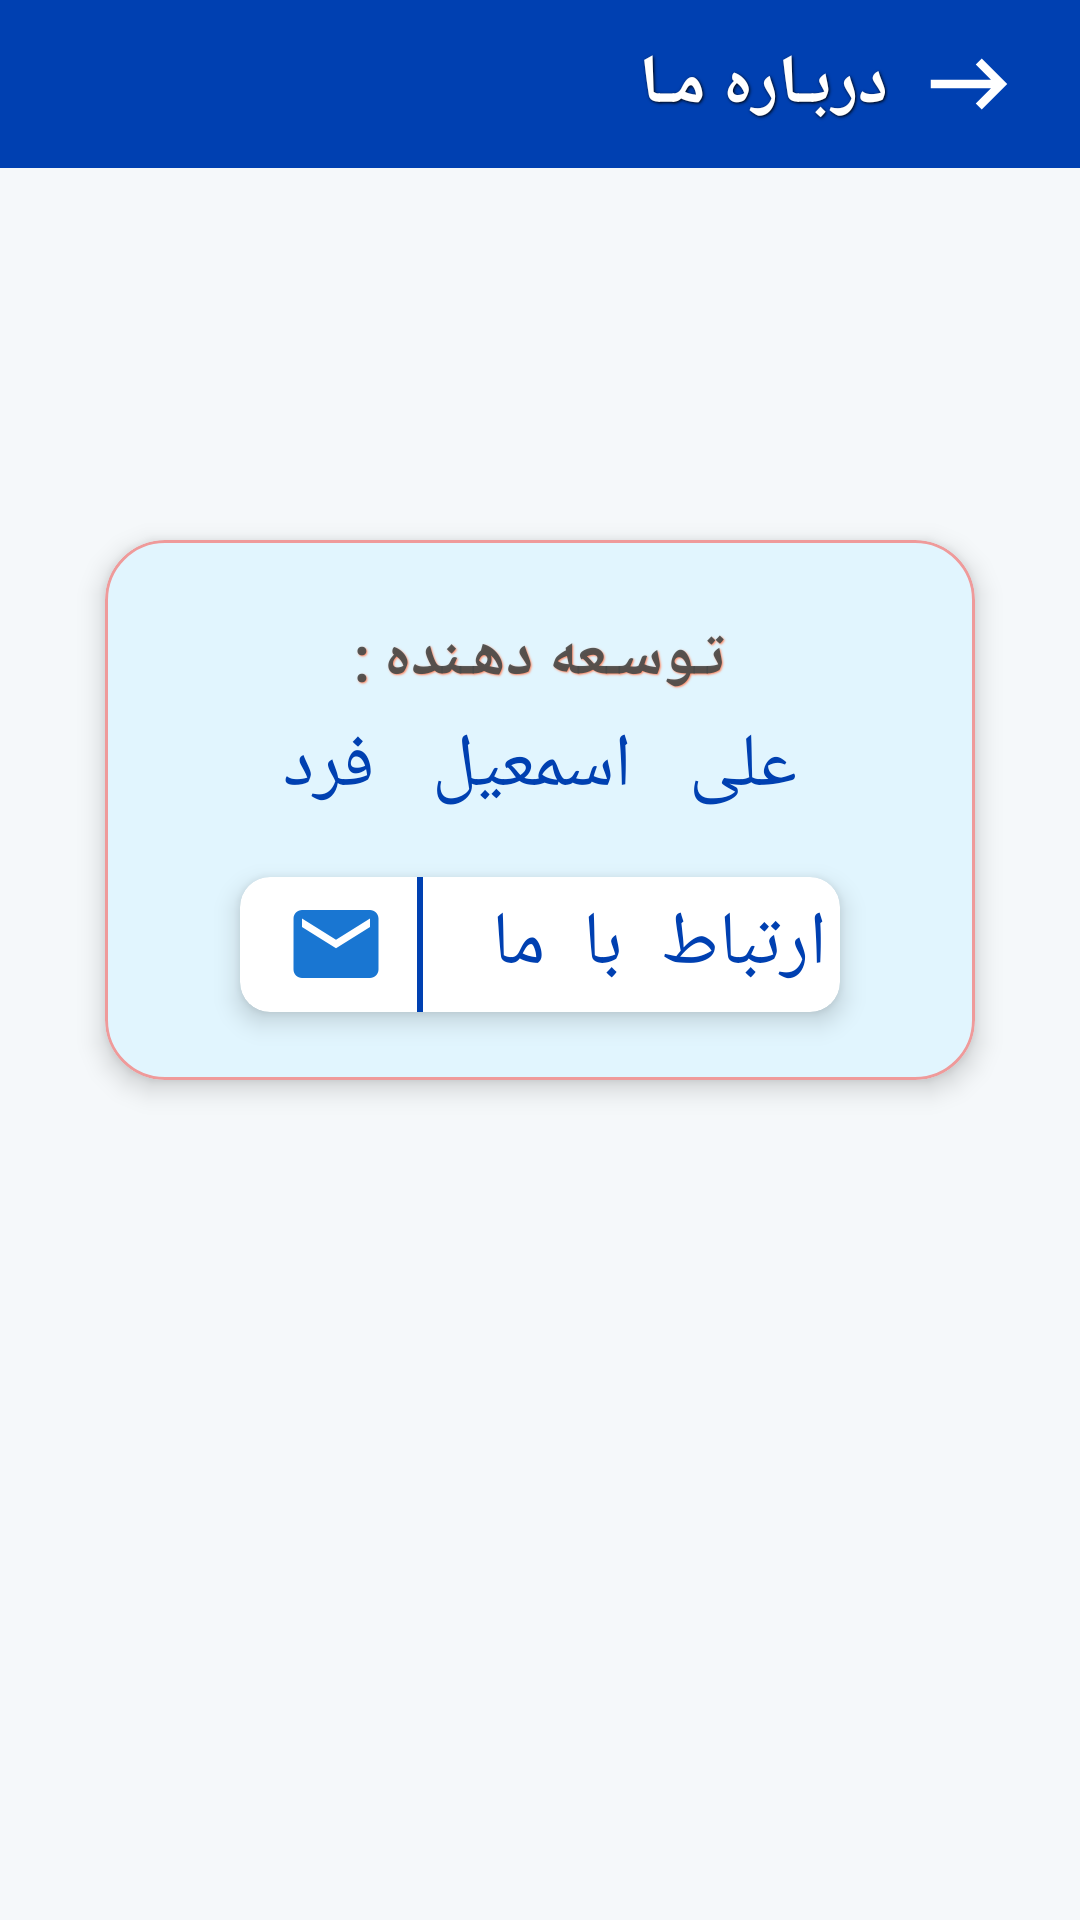

Where to tap for icons on this 1080w x 1920h app screen, as (x,y):
email: (336,944)
